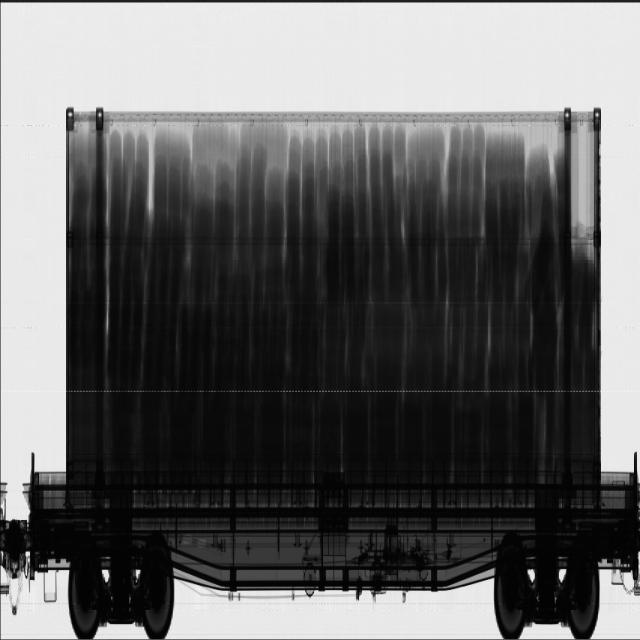clohes: (69, 116, 596, 467)
